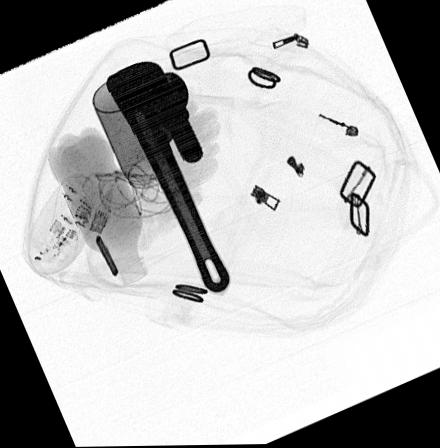Wrench: (106, 60, 232, 295)
